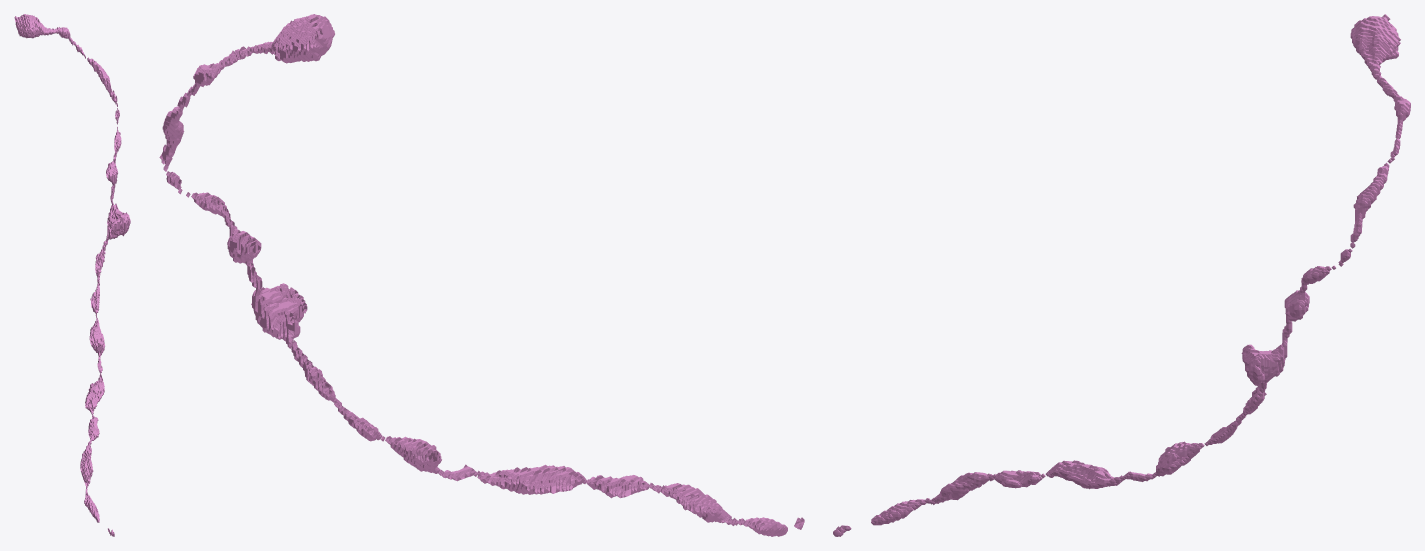
The model's file is SVV_ASKR.gltf.
3 views of the same model, side by side, from view 1: azimuth 30°, elevation 25°; view 2: azimuth 150°, elevation 25°; view 3: azimuth 270°, elevation 25° (orthographic). The views are drawn at different scales.
Visible parts, largest first — view 1: ASKR; view 2: ASKR; view 3: ASKR.
Boxes of the visible parts, bbox=[...] form: ASKR: bbox=[14, 14, 130, 536]; ASKR: bbox=[159, 14, 804, 536]; ASKR: bbox=[833, 14, 1410, 536].
Bounding box in the file's own units: 81284 × 165560 × 148494.
